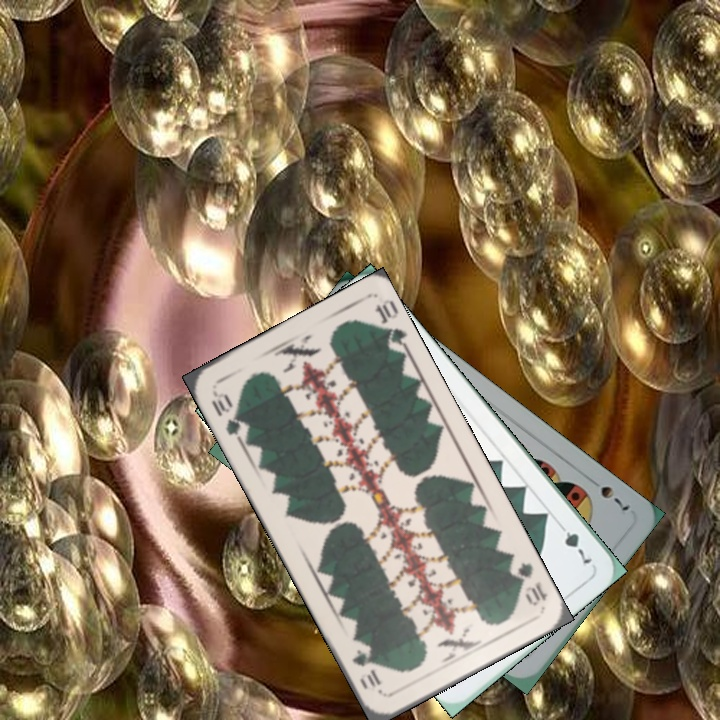G10: (509, 558, 550, 609), (207, 387, 245, 442)
G7: (553, 517, 595, 568)
S7: (584, 473, 633, 514)
